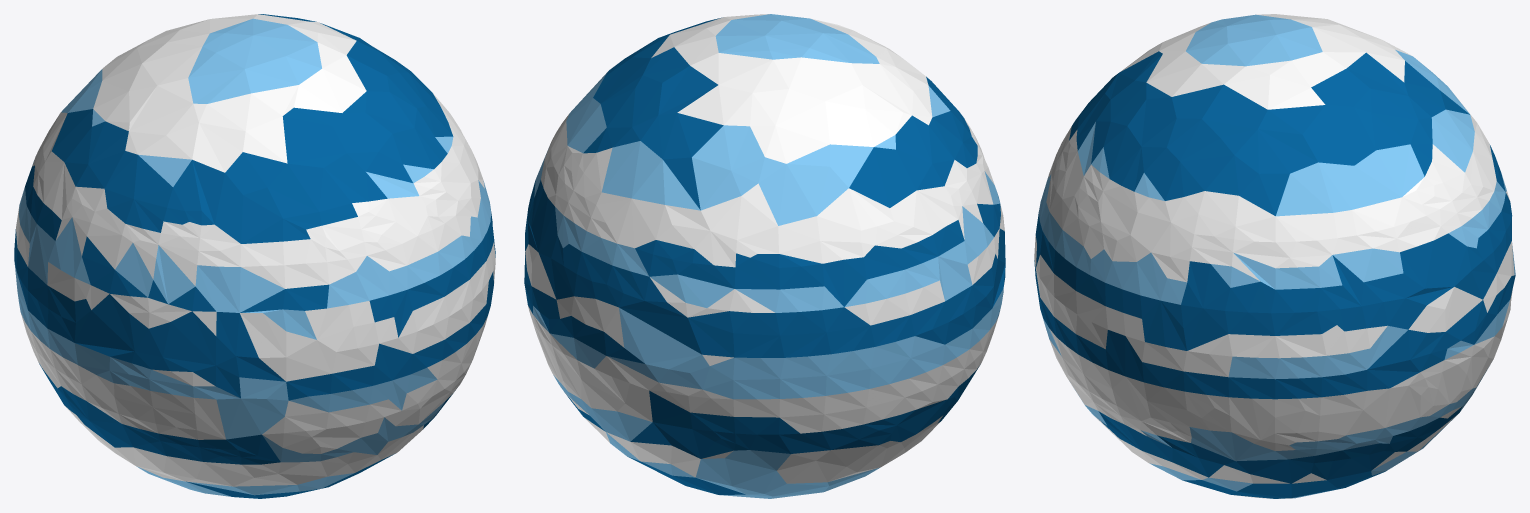
Rendered from Neptune.gltf.
3 views of the same model, side by side, from view 1: azimuth 30°, elevation 25°; view 2: azimuth 150°, elevation 25°; view 3: azimuth 270°, elevation 25° (orthographic).
Parts seen in each view (by area): view 1: node-0; view 2: node-0; view 3: node-0.
Boxes of the visible parts, bbox=[...] form: node-0: bbox=[14, 14, 495, 498]; node-0: bbox=[524, 14, 1005, 498]; node-0: bbox=[1034, 14, 1515, 498].
Bounding box in the file's own units: 317289 × 320809 × 316846.
